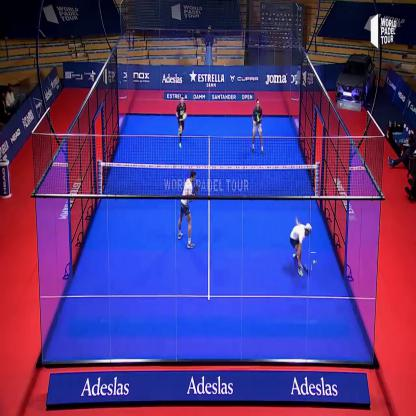ball: (312, 252, 318, 271)
